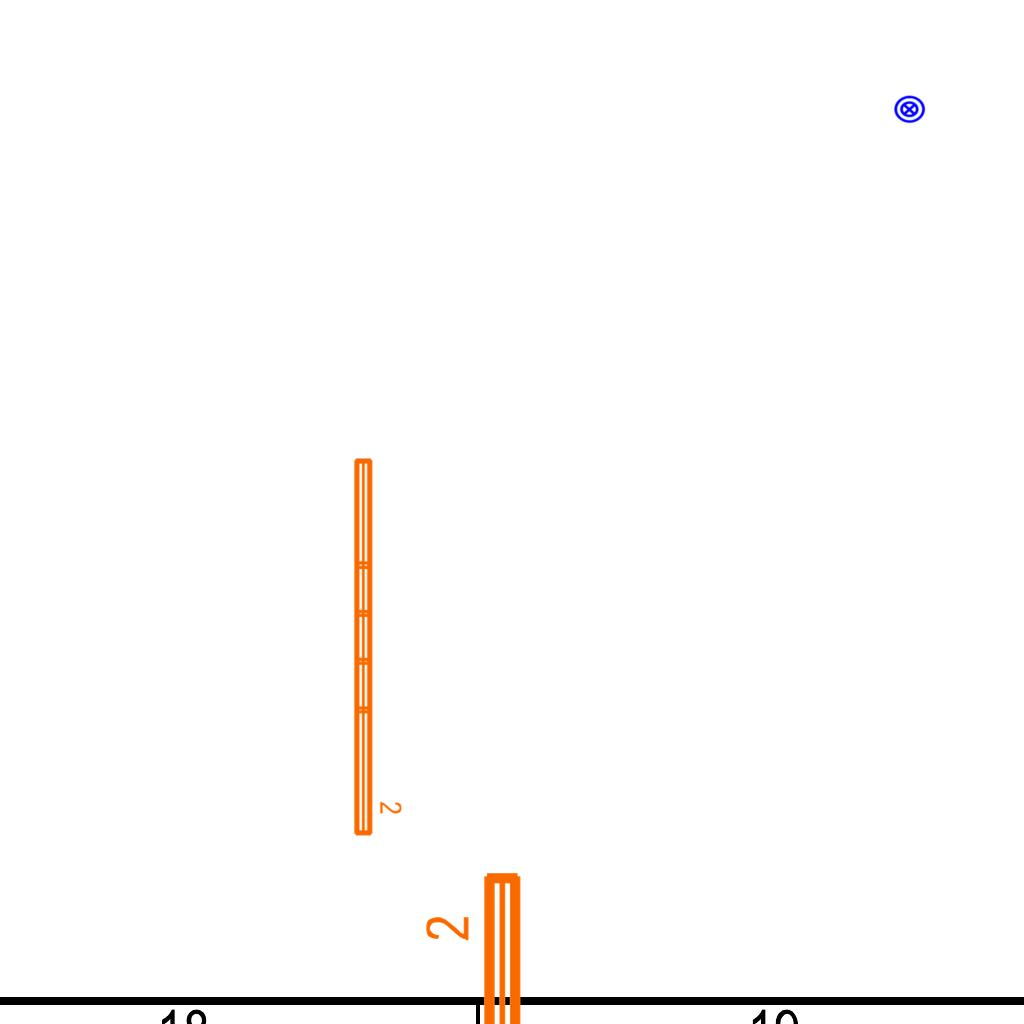Ambulanz_Pendelleuchte_LED: (348, 453, 404, 840), (421, 864, 533, 1024)
Taster_beleuchtet: (892, 92, 927, 127)
